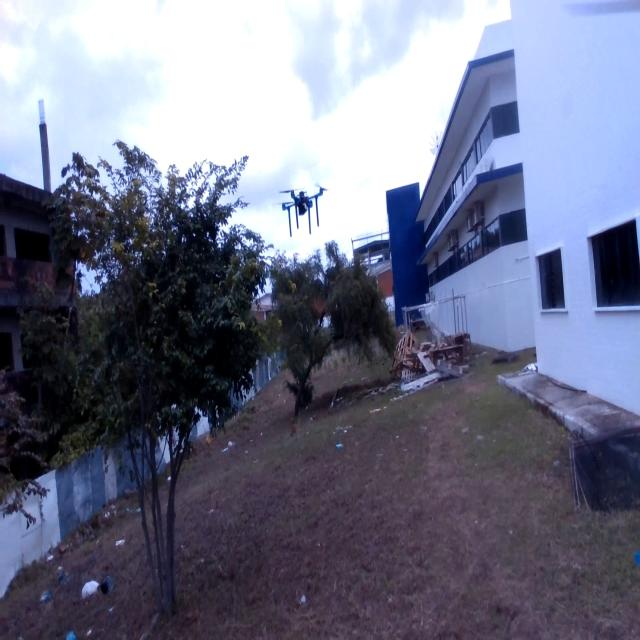-uav-: (273, 166, 335, 253)
